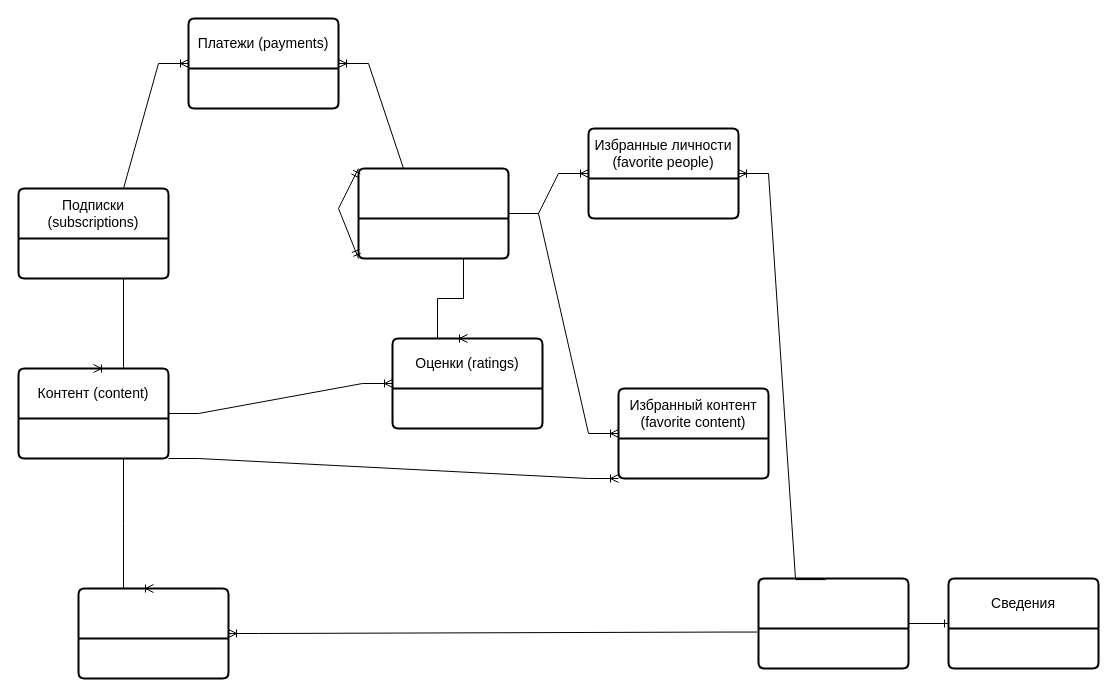
This 1116x696 diagram has some shape labels left out. The shapes that lost their labels are listed below. From the top down, each one's centre as x and y in pixels, then its label:
At [433,213]: "Пользователи (users)".
At [153,633]: "Состав (crew)".
At [833,623]: "Люди (people)".
